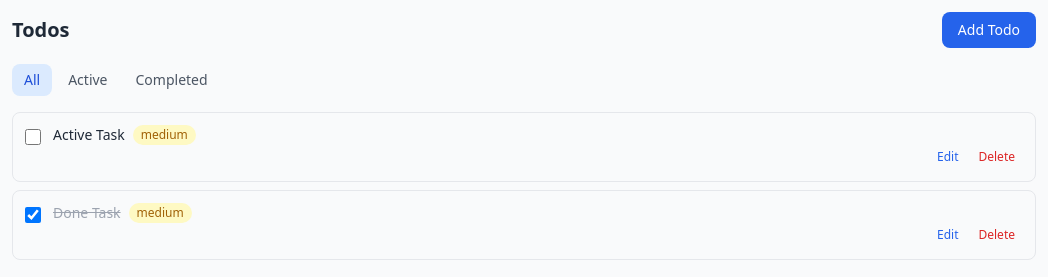
Test case: TodoList › filters completed todos
The image size is (1048, 277).
Expected: the text "Done Task" is shown, [53,203,121,223]
Click the button "completed". click: coordinates (172, 80)
box: [124,64,220,96]
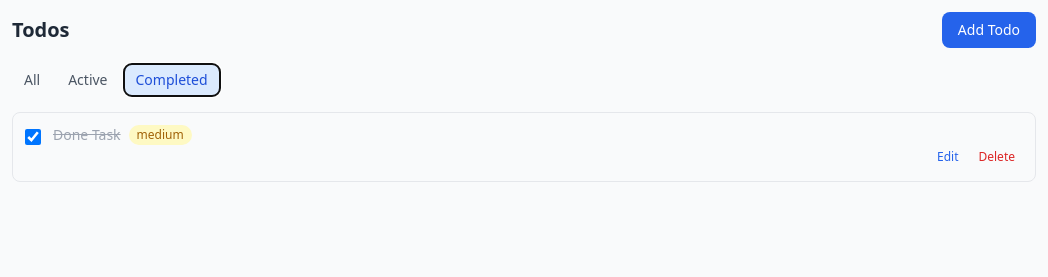
Expected: the text "Done Task" is shown, [53,125,121,145]
Now the text "Active Task" is gone
